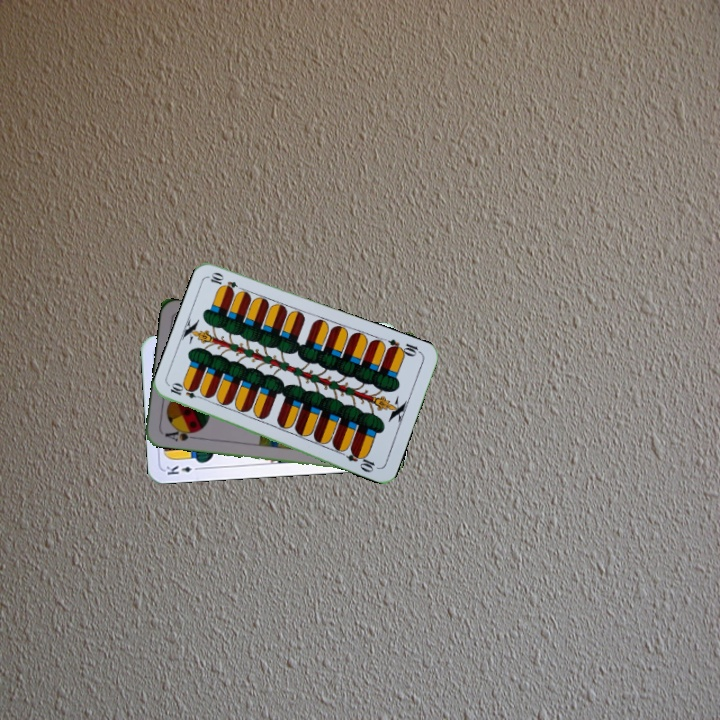E10: (383, 335, 424, 359), (166, 380, 206, 402)
EK: (162, 462, 203, 477)
SA: (161, 424, 200, 444)
